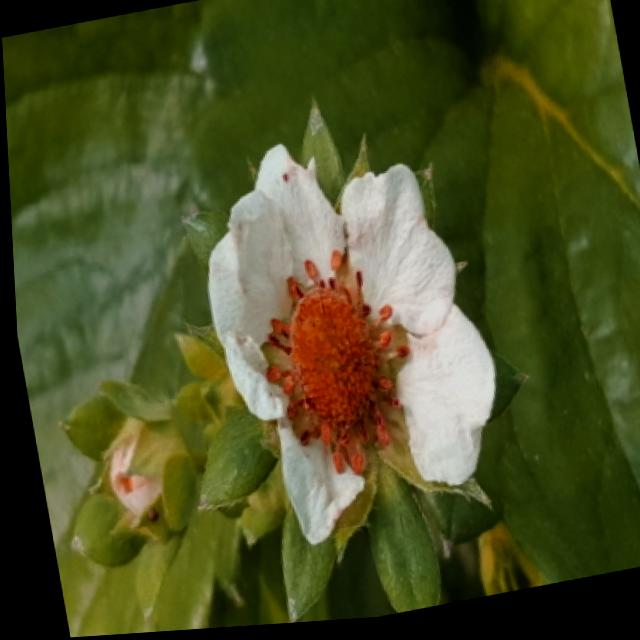Blossom Blight: (254, 251, 412, 483)
